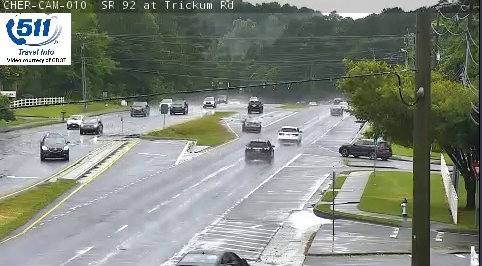car: (246, 140, 273, 161), (278, 126, 301, 142), (242, 117, 260, 132)
